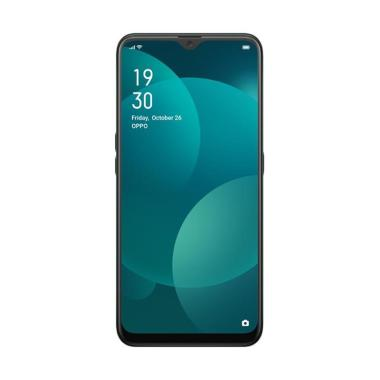Handphone: (112, 30, 267, 352)
